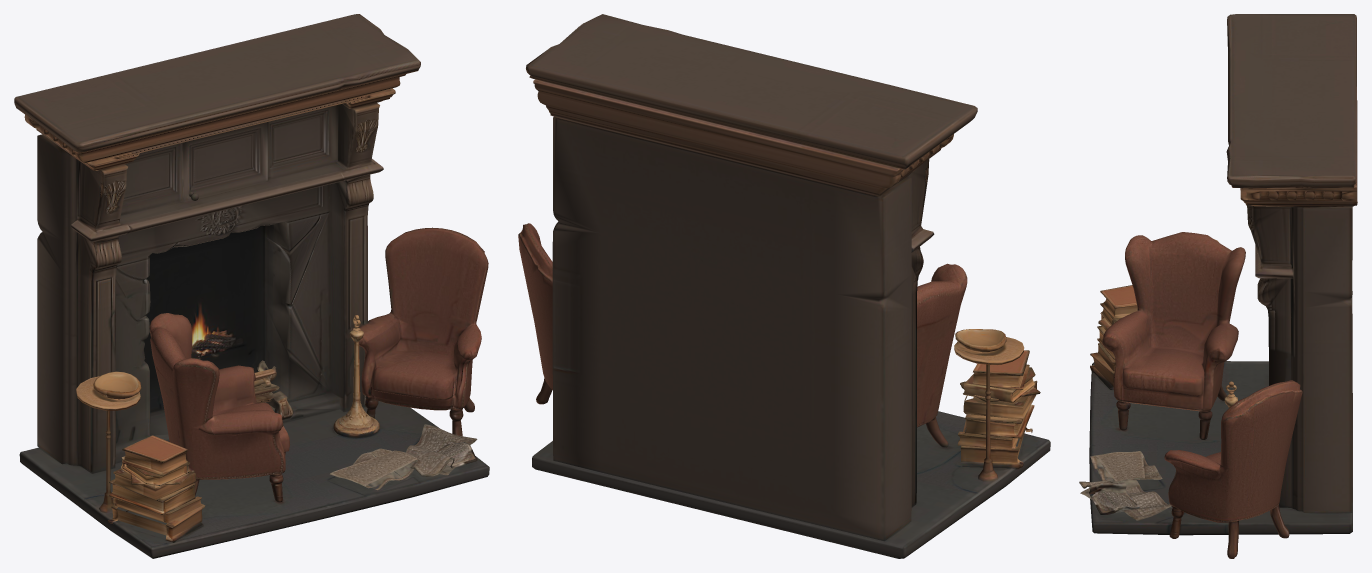
The model's file is reading-nook.glb.
The picture shows the model from 3 angles, left to right: view 1: azimuth 30°, elevation 25°; view 2: azimuth 150°, elevation 25°; view 3: azimuth 270°, elevation 25°; orthographic projection. The views are drawn at different scales.
Visible parts, largest first — view 1: aa4a930c_732a_48e8_a05e_ad688274e568; view 2: aa4a930c_732a_48e8_a05e_ad688274e568; view 3: aa4a930c_732a_48e8_a05e_ad688274e568.
Boxes of the visible parts, x1=… form: aa4a930c_732a_48e8_a05e_ad688274e568: x1=14, y1=14, x2=489, y2=558; aa4a930c_732a_48e8_a05e_ad688274e568: x1=518, y1=14, x2=1050, y2=558; aa4a930c_732a_48e8_a05e_ad688274e568: x1=1079, y1=14, x2=1357, y2=558.
Size of the model in its own units: 0.9995 by 0.8237 by 0.5767.
1 material, 1 textured.
